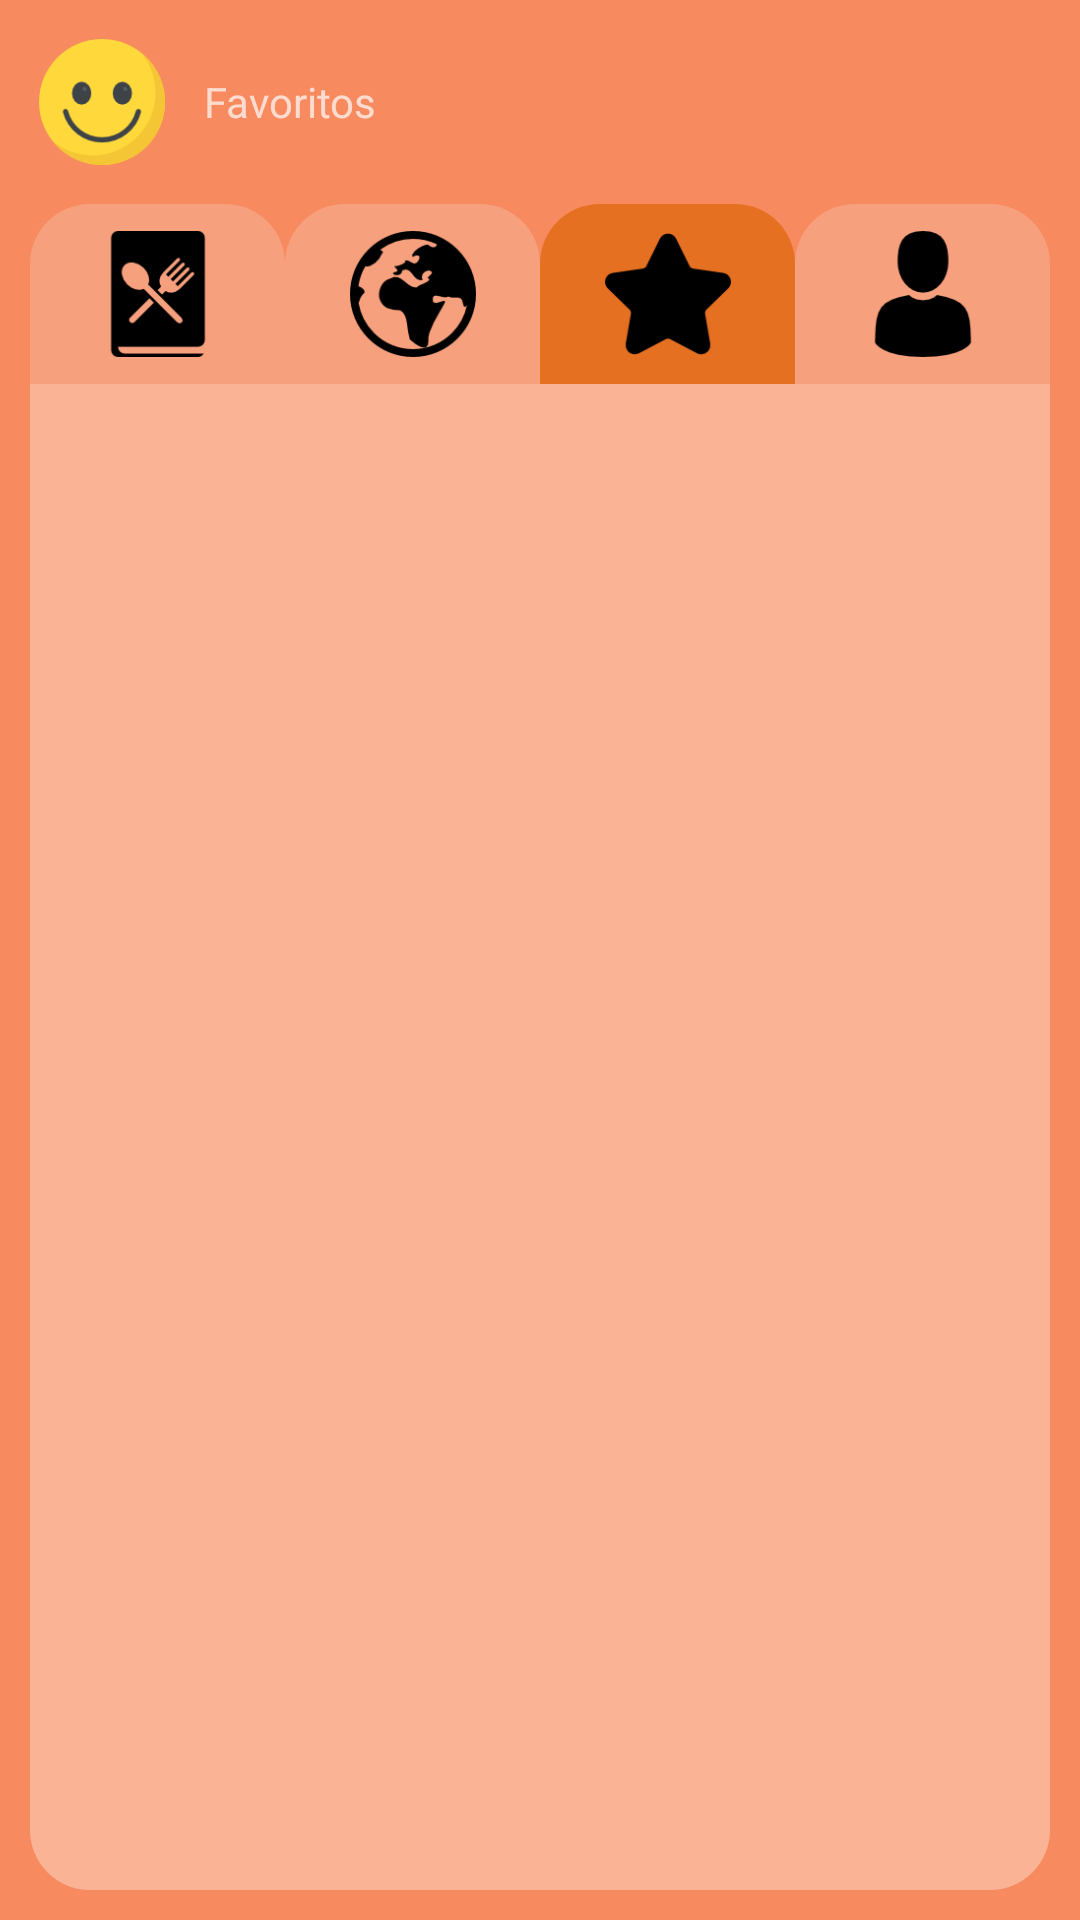

Icons on this 1080*1920 Android screen, each with the point to tap as [x,y]:
favorito: [667,294]
recetas: [157,294]
